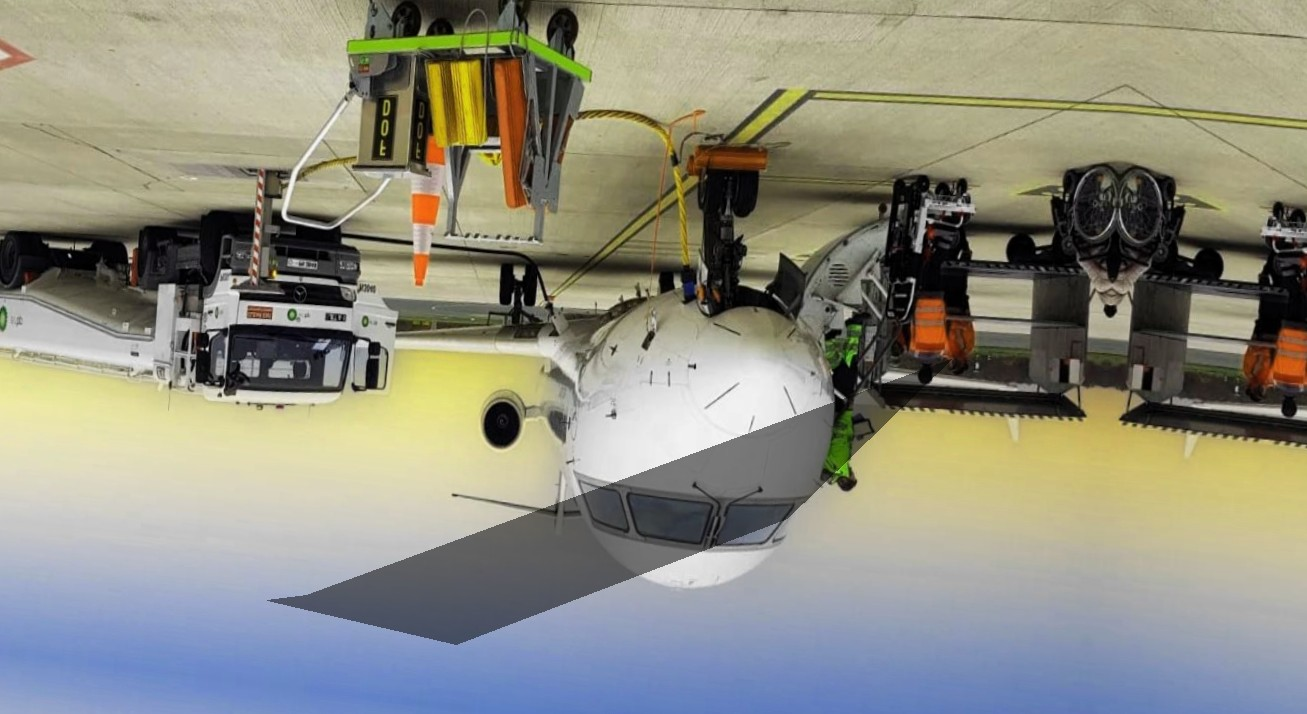chock: (481, 52, 547, 214), (444, 55, 493, 152), (417, 56, 465, 153)
wheel: (197, 209, 245, 282), (0, 227, 42, 287), (134, 226, 167, 286), (727, 166, 762, 221), (83, 239, 132, 278), (696, 165, 727, 221), (296, 216, 344, 248), (1192, 246, 1228, 282), (1004, 232, 1038, 266)
